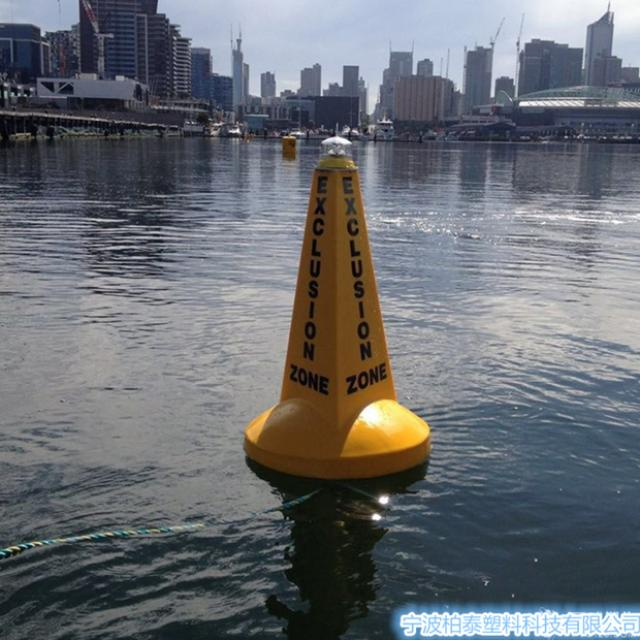buoy: (243, 136, 437, 483)
